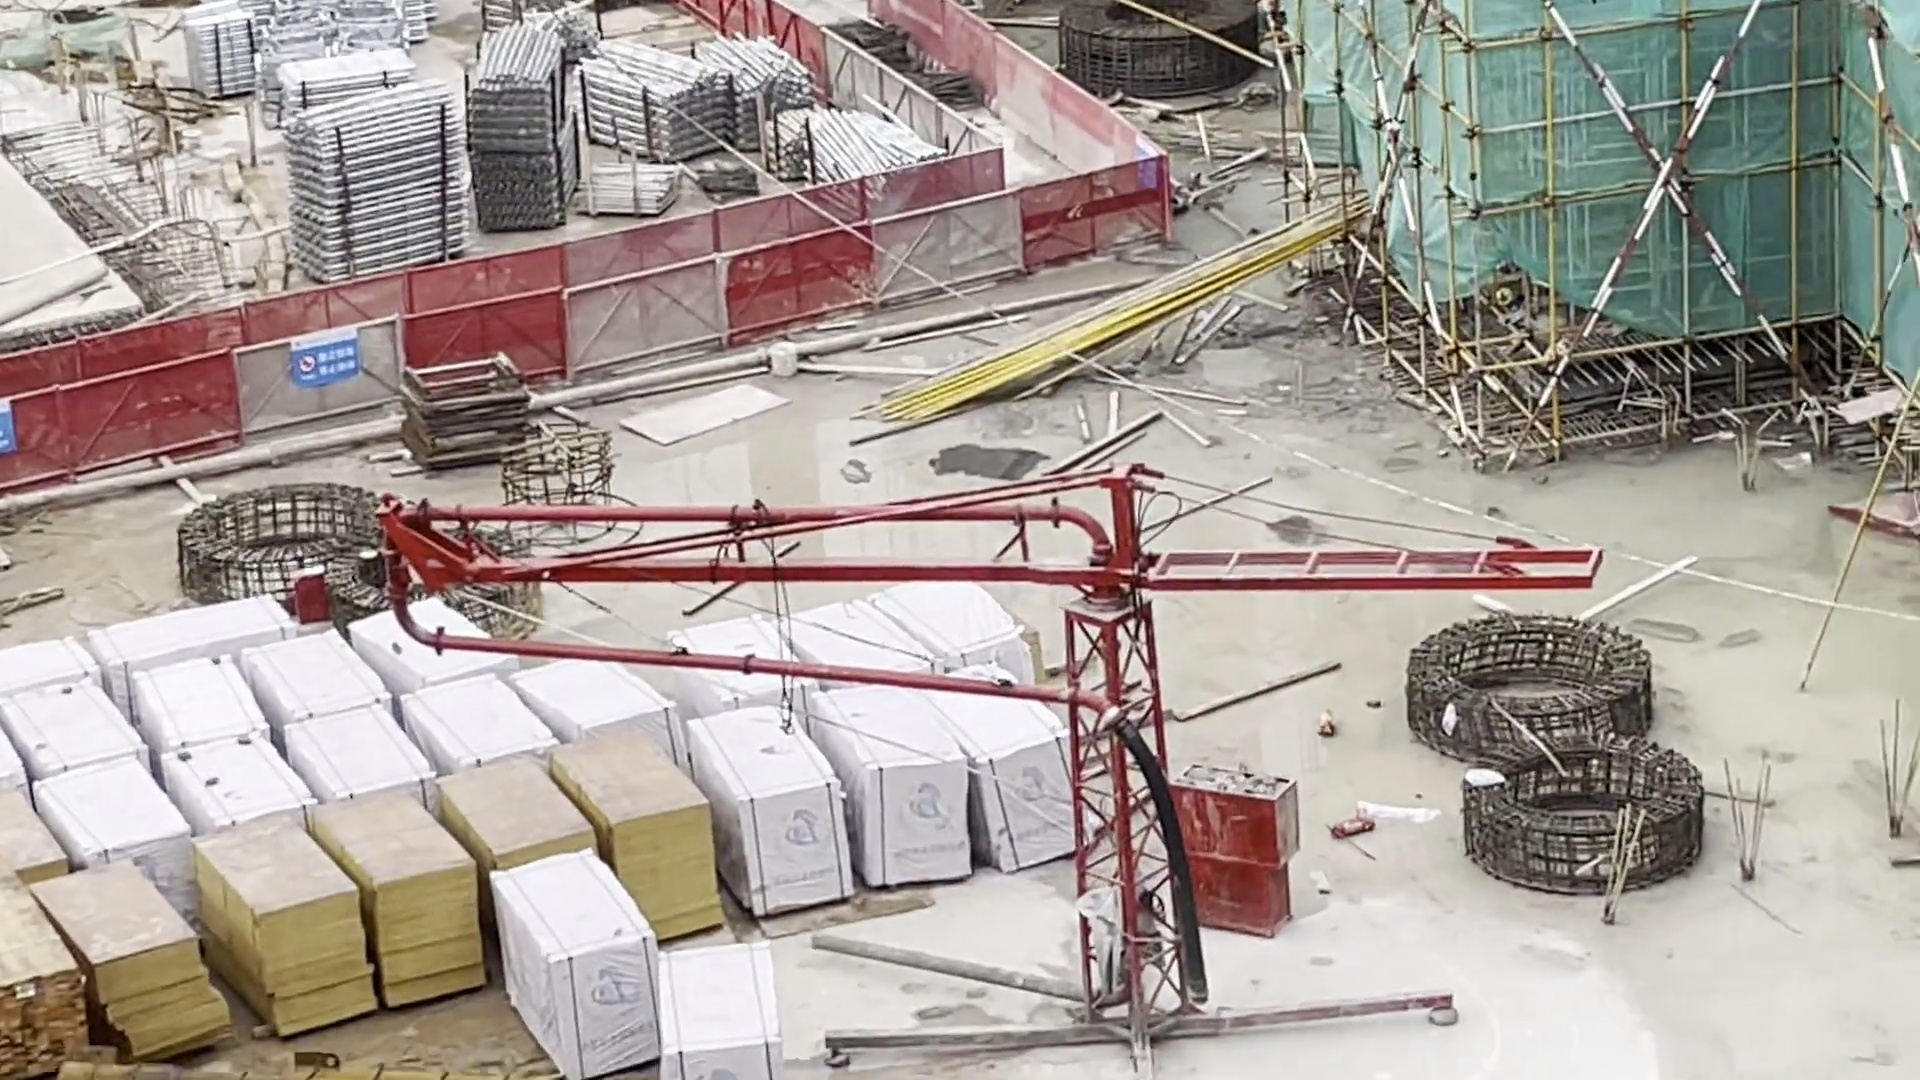board: (556, 727, 752, 960), (349, 808, 502, 1042), (75, 880, 256, 1073), (216, 841, 342, 1033), (451, 758, 593, 887)
fence: (487, 105, 1184, 392), (8, 276, 574, 462), (727, 1, 1138, 135)
scaffold: (286, 96, 495, 268), (468, 32, 574, 227), (585, 34, 737, 166), (782, 111, 932, 200), (724, 20, 835, 111), (189, 3, 272, 102), (276, 55, 419, 105), (593, 153, 678, 224)
slogan: (295, 323, 375, 392)
wood: (1, 928, 100, 1077)
